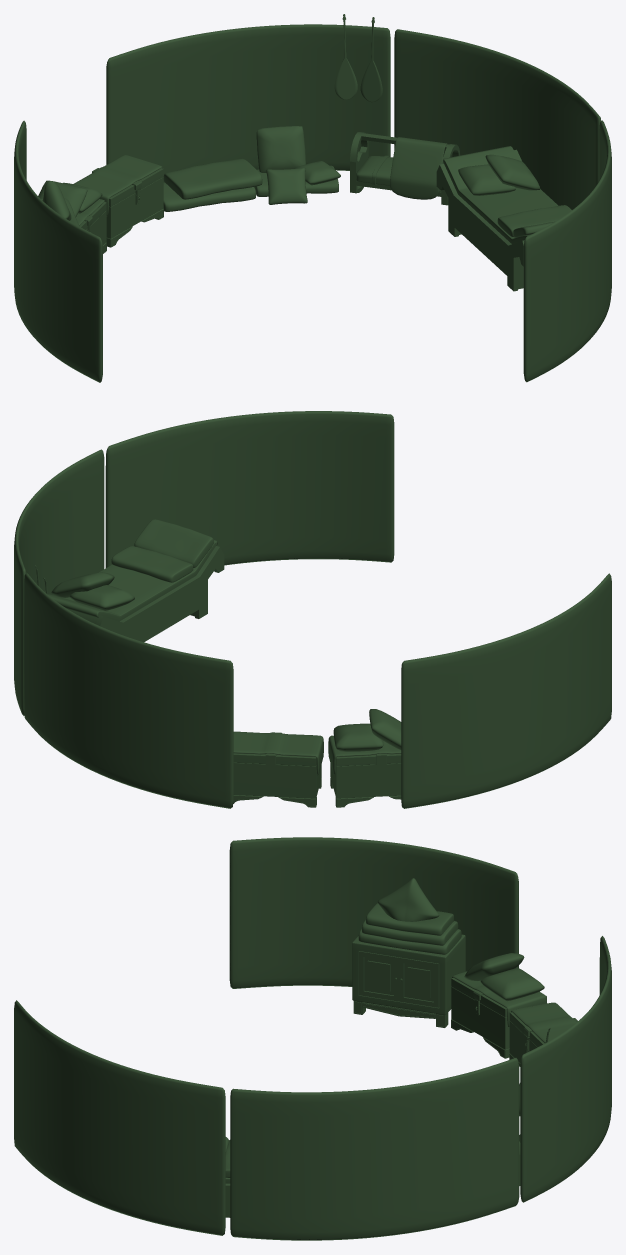
File: Urtstuff.fbx
3 views of the same model, one above another, from view 1: azimuth 30°, elevation 25°; view 2: azimuth 150°, elevation 25°; view 3: azimuth 270°, elevation 25° (orthographic).
Parts seen in each view (by area): view 1: pCube53, pCube54, pCube52, pCube55, pCube40, pCube41, pCube36, pCube63, pCube64, Sandk2_orama, Sandk2_main, pTorus4 (+13 smaller); view 2: pCube55, pCube52, pCube53, pCube54, Sandk2_main (×2), pCube40, Sandk2_orama (×2), pCube41, pCube70, pCube69, Sandk2_top (×2), pCube71 (+3 smaller); view 3: pCube54, pCube55, pCube52, pCube53, group3_Sandk_dor_low, Main_S_low, Sandk2_orama (×2), Sandk2_main (×2), pCube26, pCube71, pCube21, pCube20 (+4 smaller).
Part boxes in pixels (box(x1,y1,x2,y2)): pCube53: box(106, 24, 390, 181); pCube54: box(394, 29, 600, 209); pCube52: box(14, 120, 102, 382); pCube55: box(523, 120, 611, 382); pCube40: box(436, 149, 524, 291); pCube41: box(443, 146, 558, 244); pCube36: box(390, 137, 451, 199); pCube63: box(163, 158, 262, 199); pCube64: box(256, 126, 305, 172); Sandk2_orama: box(73, 155, 162, 216); Sandk2_main: box(106, 177, 163, 238); pTorus4: box(350, 132, 460, 205); pCube55: box(105, 411, 394, 567); pCube52: box(401, 573, 611, 808); pCube53: box(24, 572, 233, 808); pCube54: box(14, 449, 104, 715); Sandk2_main (×2): box(233, 762, 401, 798); pCube40: box(68, 546, 224, 641); Sandk2_orama (×2): box(233, 731, 401, 774); pCube41: box(48, 540, 217, 621); pCube70: box(134, 519, 213, 567); pCube69: box(111, 546, 193, 582); Sandk2_top (×2): box(233, 753, 401, 766); pCube71: box(333, 723, 383, 751); pCube54: box(230, 1058, 519, 1240); pCube55: box(14, 1000, 225, 1235); pCube52: box(229, 837, 518, 988); pCube53: box(520, 936, 611, 1202); group3_Sandk_dor_low: box(359, 951, 439, 1007); Main_S_low: box(352, 934, 465, 1015); Sandk2_orama (×2): box(452, 971, 576, 1043); Sandk2_main (×2): box(451, 987, 537, 1062); pCube26: box(377, 878, 439, 921); pCube71: box(480, 968, 544, 1001); pCube21: box(366, 903, 453, 935); pCube20: box(362, 919, 458, 945).
Bounding box in the file's own units: 106 × 30.84 × 104.
